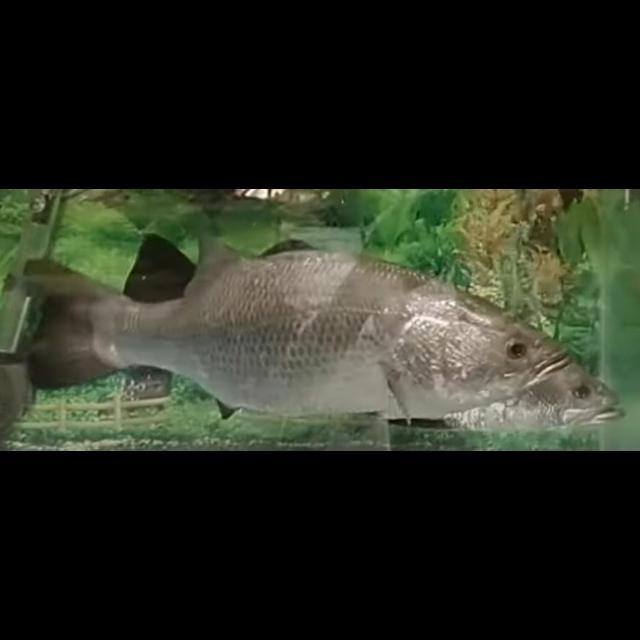Seabass: (21, 229, 576, 421)
